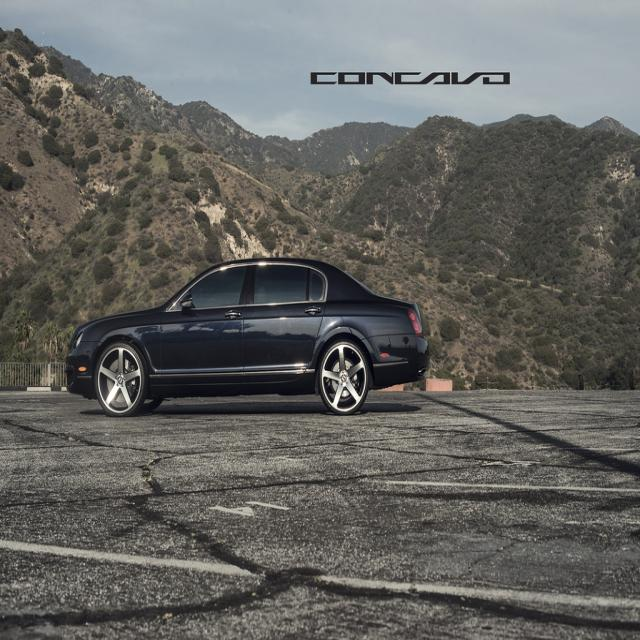car: (63, 256, 428, 419)
